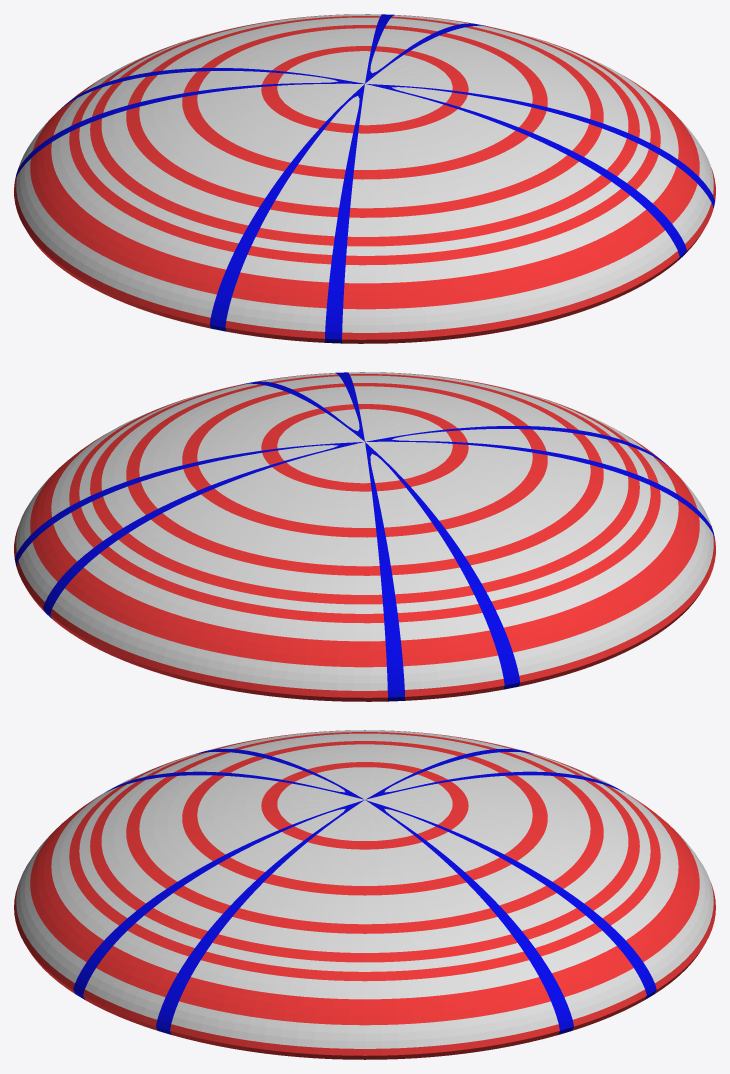
File: UFO.fbx
The picture shows the model from 3 angles, top to bottom: view 1: azimuth 30°, elevation 25°; view 2: azimuth 150°, elevation 25°; view 3: azimuth 270°, elevation 25°; orthographic projection.
Parts seen in each view (by area): view 1: Sphere; view 2: Sphere; view 3: Sphere.
Boxes of the visible parts, left/top/right/bottom form: Sphere: left=14, top=14, right=715, bottom=343; Sphere: left=14, top=372, right=715, bottom=701; Sphere: left=14, top=730, right=715, bottom=1059.
Size of the model in its own units: 3591 by 862 by 3591.
